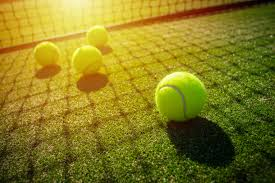tennis_ball: (155, 70, 208, 123), (72, 45, 103, 75), (32, 40, 60, 68), (86, 24, 109, 48)
